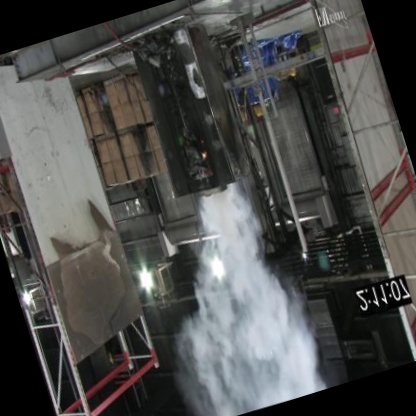smoke: (145, 179, 321, 416)
